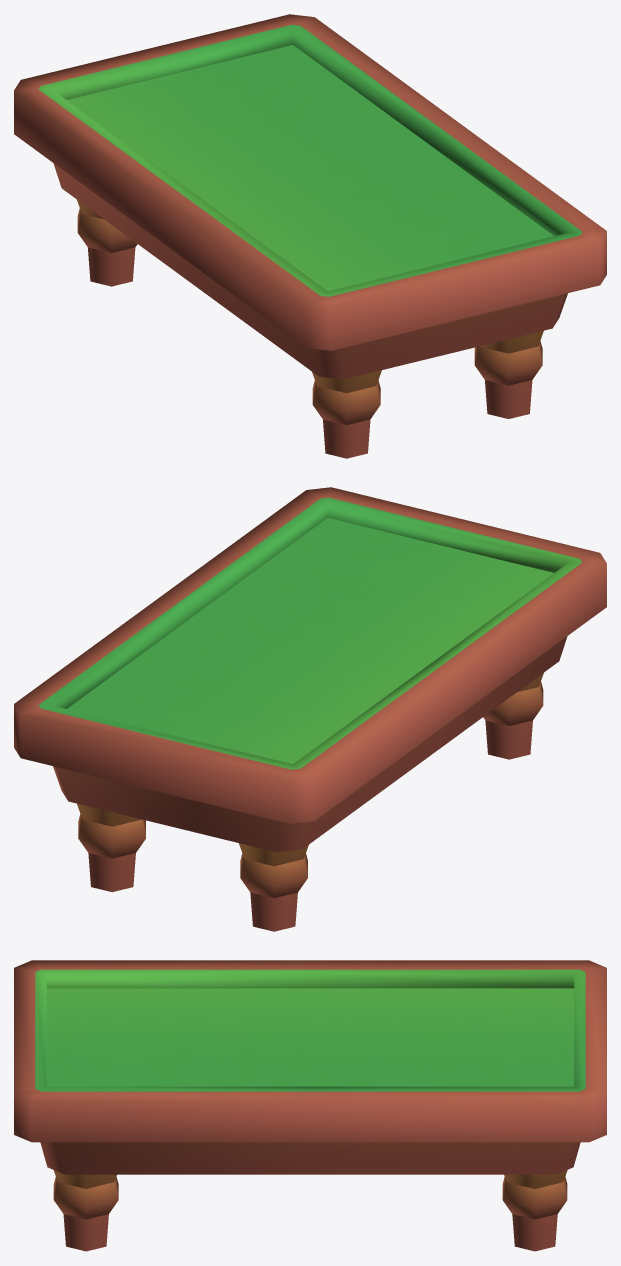
Rendered from PoolTable.FBX.
3 views of the same model, one above another, from view 1: azimuth 30°, elevation 25°; view 2: azimuth 150°, elevation 25°; view 3: azimuth 270°, elevation 25° (orthographic). The views are drawn at different scales.
Parts seen in each view (by area): view 1: Box327; view 2: Box327; view 3: Box327.
Part boxes in pixels (x1=…): Box327: x1=14, y1=14, x2=606, y2=458; Box327: x1=14, y1=487, x2=606, y2=931; Box327: x1=14, y1=960, x2=606, y2=1251.
Size of the model in its own units: 55.91 by 32.28 by 100.
